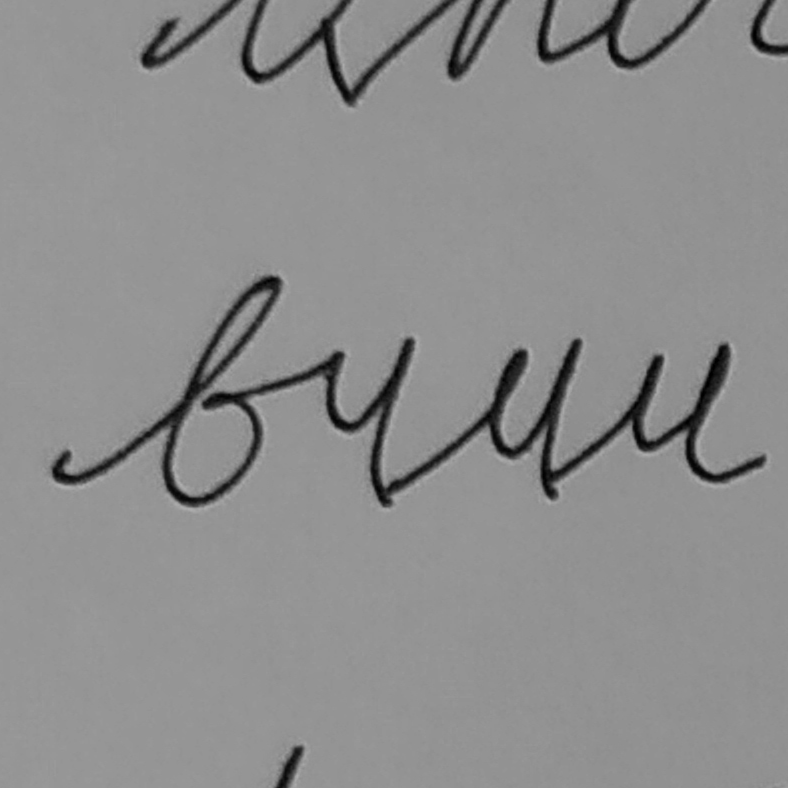b: (157, 273, 283, 509)
r: (456, 329, 587, 511), (601, 337, 746, 486), (318, 334, 419, 514)
